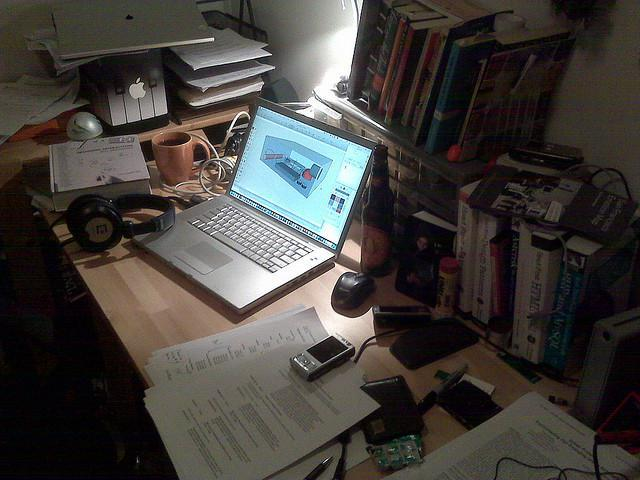phone: (500, 130, 589, 175), (289, 330, 356, 381)
tv: (226, 92, 382, 260)
